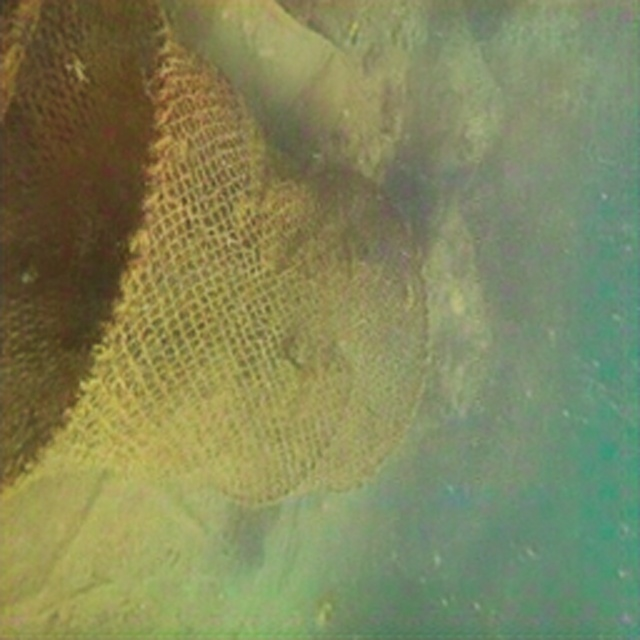mine: (0, 0, 428, 509)
